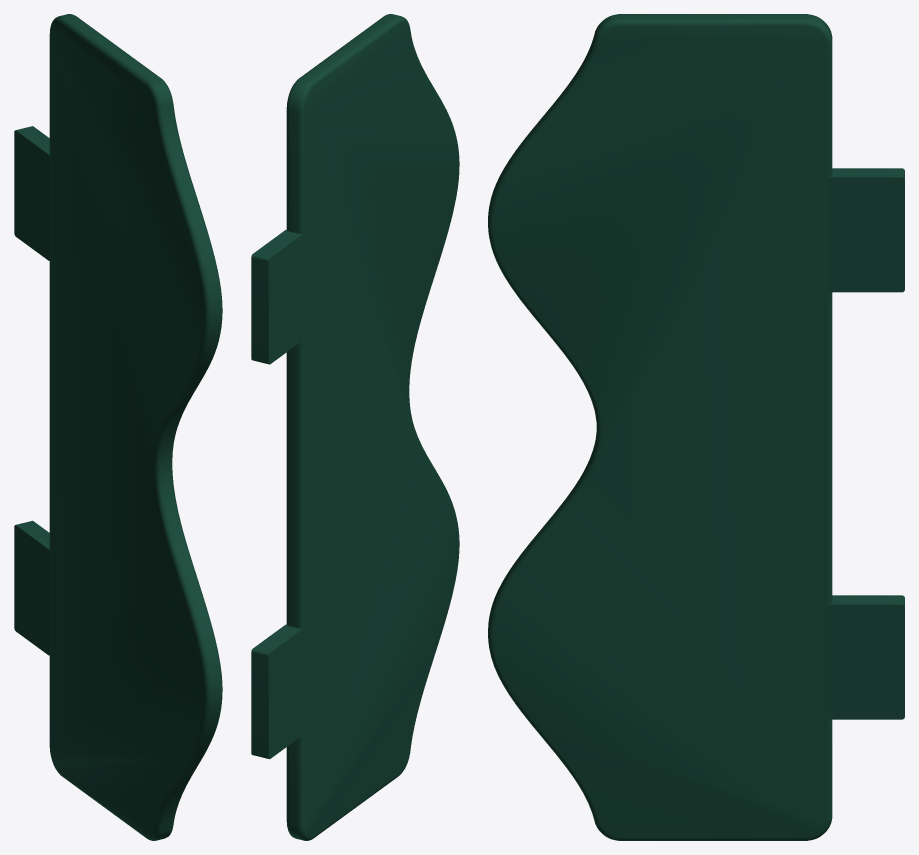
The picture shows the model from 3 angles, left to right: view 1: azimuth 30°, elevation 25°; view 2: azimuth 150°, elevation 25°; view 3: azimuth 270°, elevation 25°; orthographic projection. The views are drawn at different scales.
Visible parts, largest first — view 1: G16_PineGreen; view 2: G16_PineGreen; view 3: G16_PineGreen.
Part boxes in pixels (bbox=[...]): G16_PineGreen: bbox=[14, 14, 222, 840]; G16_PineGreen: bbox=[251, 14, 459, 840]; G16_PineGreen: bbox=[488, 14, 904, 840].
Size of the model in its own units: 2.4 by 100 by 46.
